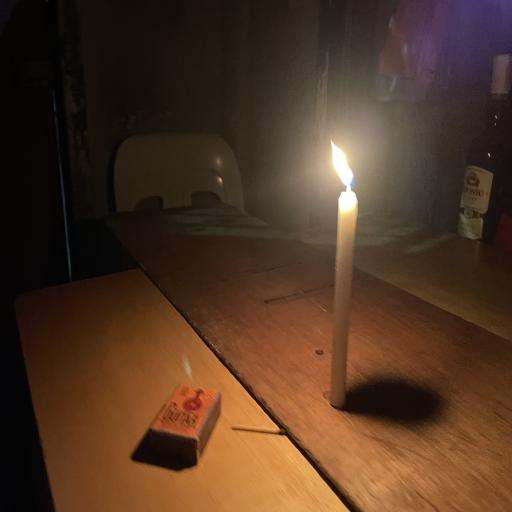fire: (316, 129, 374, 223)
